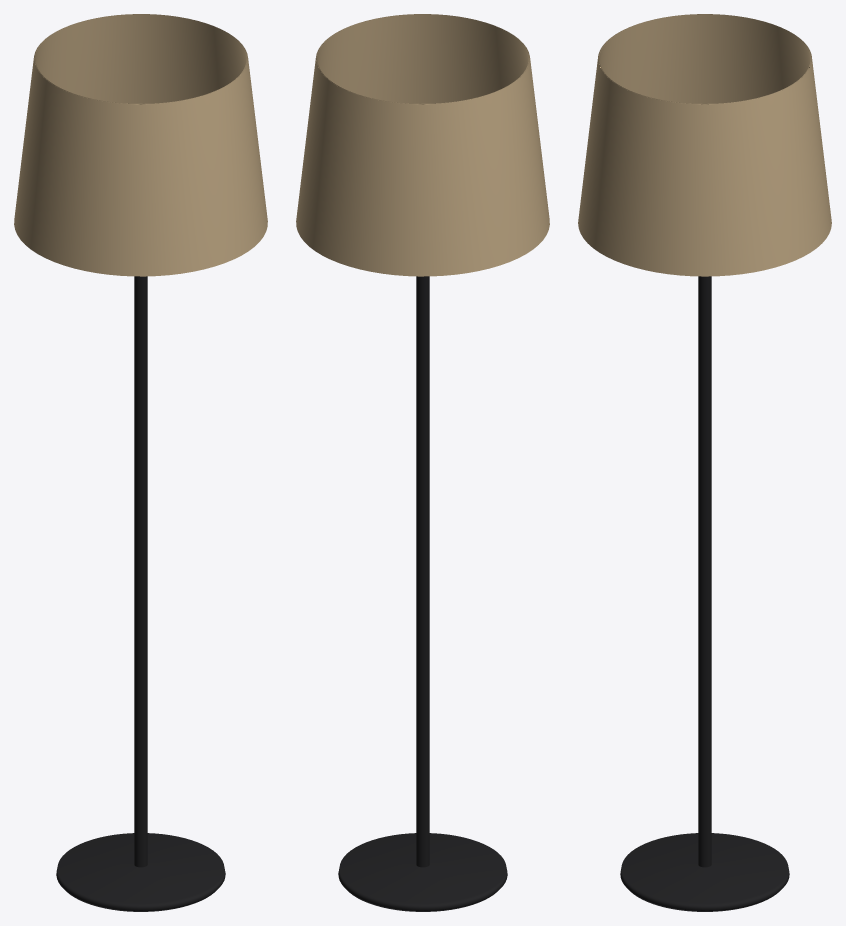
Rendered from sand.glb.
The picture shows the model from 3 angles, left to right: view 1: azimuth 30°, elevation 25°; view 2: azimuth 150°, elevation 25°; view 3: azimuth 270°, elevation 25°; orthographic projection.
Visible parts, largest first — view 1: Shade, Base, Pole; view 2: Shade, Base, Pole; view 3: Shade, Base, Pole.
Boxes of the visible parts, x1,y1,x2,y2 form: Shade: (14,14,267,276); Base: (56,833,225,911); Pole: (134,276,147,867); Shade: (296,14,549,276); Base: (338,833,507,911); Pole: (416,276,429,867); Shade: (578,14,831,276); Base: (620,833,789,911); Pole: (698,276,711,867).
Bounding box in the file's own units: 0.45 × 1.6 × 0.45.
